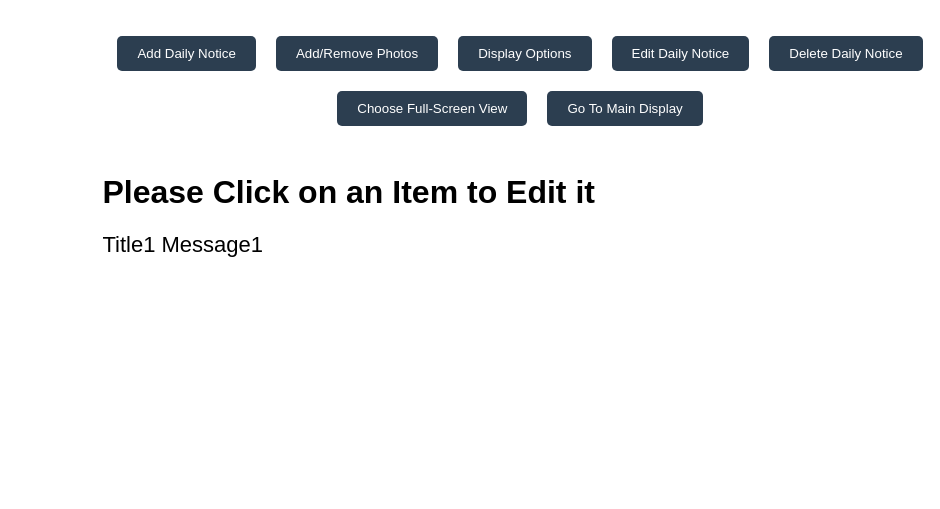
Test: Edit component › renders input form when an item is selected
Expected: the heading "Please Click on an Item to Edit it" is shown, top-left (102, 174), bottom-right (595, 210)
// Click on the item
Click the text "Title1 Message1".
click(183, 245)  # box top-left (102, 232), bottom-right (263, 257)
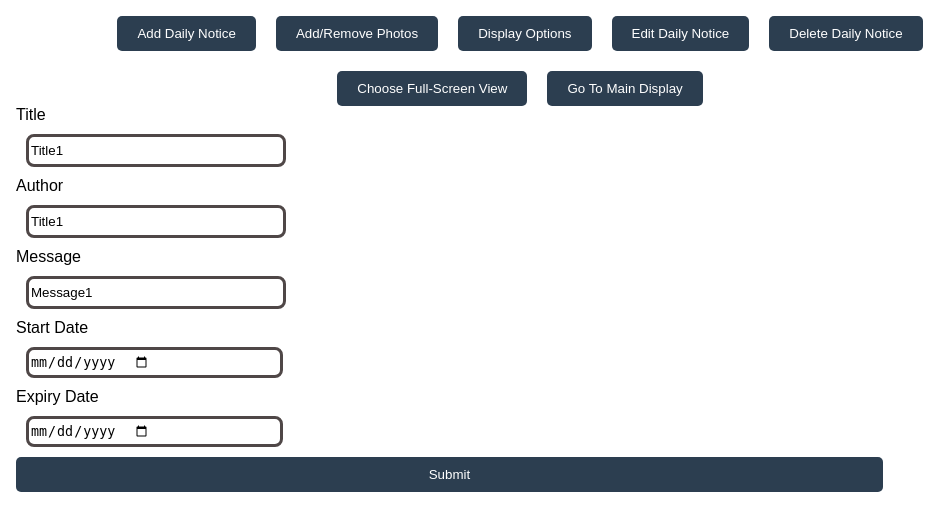
Expected: the 1st field with placeholder "Title" holds "Title1", top-left (26, 134), bottom-right (286, 167)
Expected: the 3rd field with placeholder "Message" holds "Message1", top-left (26, 276), bottom-right (286, 309)
